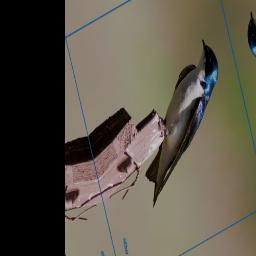Swallow: (123, 33, 240, 211)
